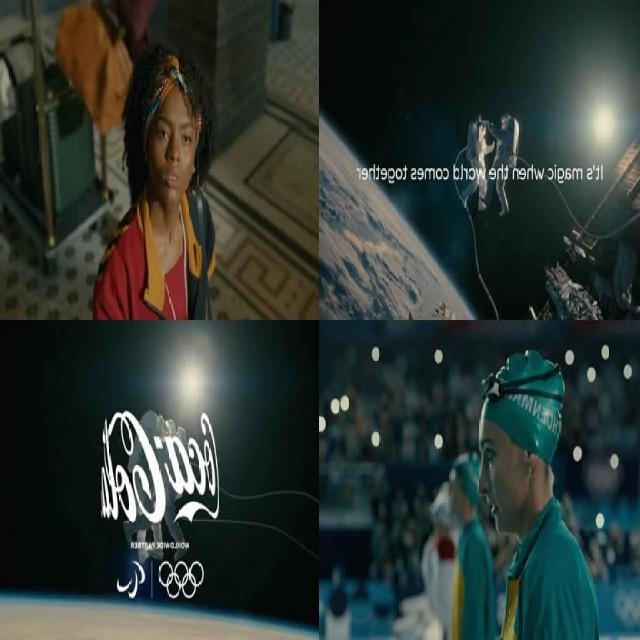coca cola: (98, 403, 220, 532)
